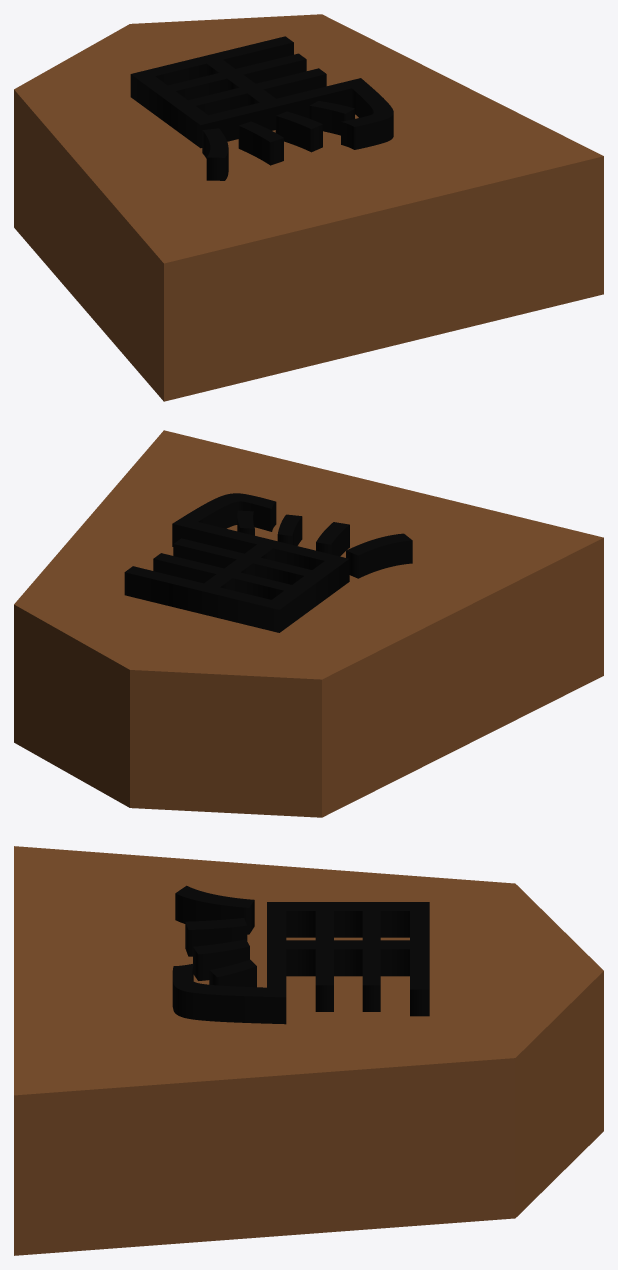
File: Uma.fbx
The picture shows the model from 3 angles, top to bottom: view 1: azimuth 30°, elevation 25°; view 2: azimuth 150°, elevation 25°; view 3: azimuth 270°, elevation 25°; orthographic projection. The views are drawn at different scales.
Visible parts, largest first — view 1: Cube, テキスト; view 2: Cube, テキスト; view 3: Cube, テキスト.
Part boxes in pixels (box(x1,y1,x2,y2)): Cube: box(14, 14, 603, 401); テキスト: box(130, 36, 393, 180); Cube: box(14, 430, 603, 817); テキスト: box(124, 493, 412, 632); Cube: box(14, 846, 603, 1255); テキスト: box(172, 885, 429, 1024).
Size of the model in its own units: 200 by 70 by 200.
